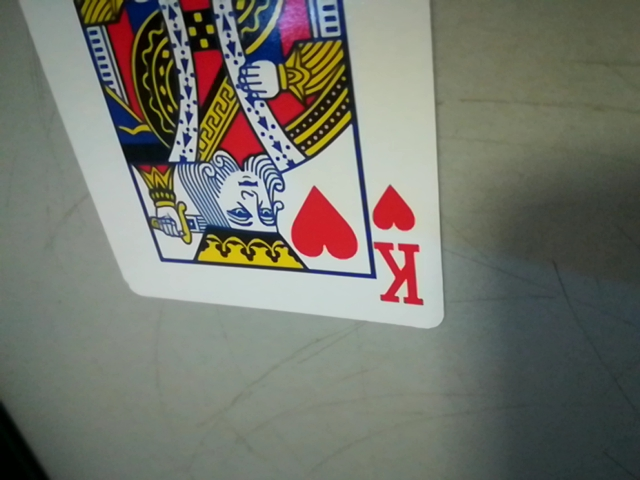hx k: (362, 181, 438, 316)
